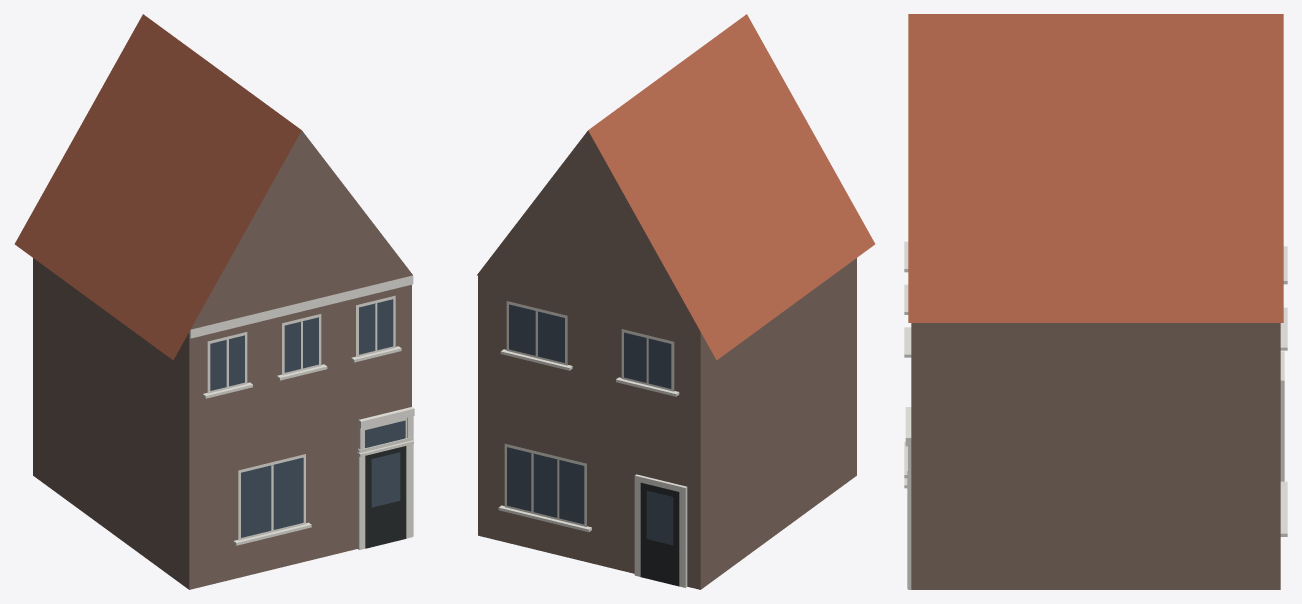
Rendered from nn-row-small__small__2__gable__short__solid__mirror.glb.
3 renders of one model, left to right at view 1: azimuth 30°, elevation 25°; view 2: azimuth 150°, elevation 25°; view 3: azimuth 270°, elevation 25°, orthographic. The views are drawn at different scales.
Parts seen in each view (by area): view 1: nn-row-small__small__2__gable__short__solid__mirror; view 2: nn-row-small__small__2__gable__short__solid__mirror; view 3: nn-row-small__small__2__gable__short__solid__mirror.
Boxes of the visible parts, <box> form: nn-row-small__small__2__gable__short__solid__mirror: <box>14,14,414,589</box>; nn-row-small__small__2__gable__short__solid__mirror: <box>477,14,875,589</box>; nn-row-small__small__2__gable__short__solid__mirror: <box>904,14,1287,589</box>.
Size of the model in its own units: 5.98 by 9.62 by 6.53.
